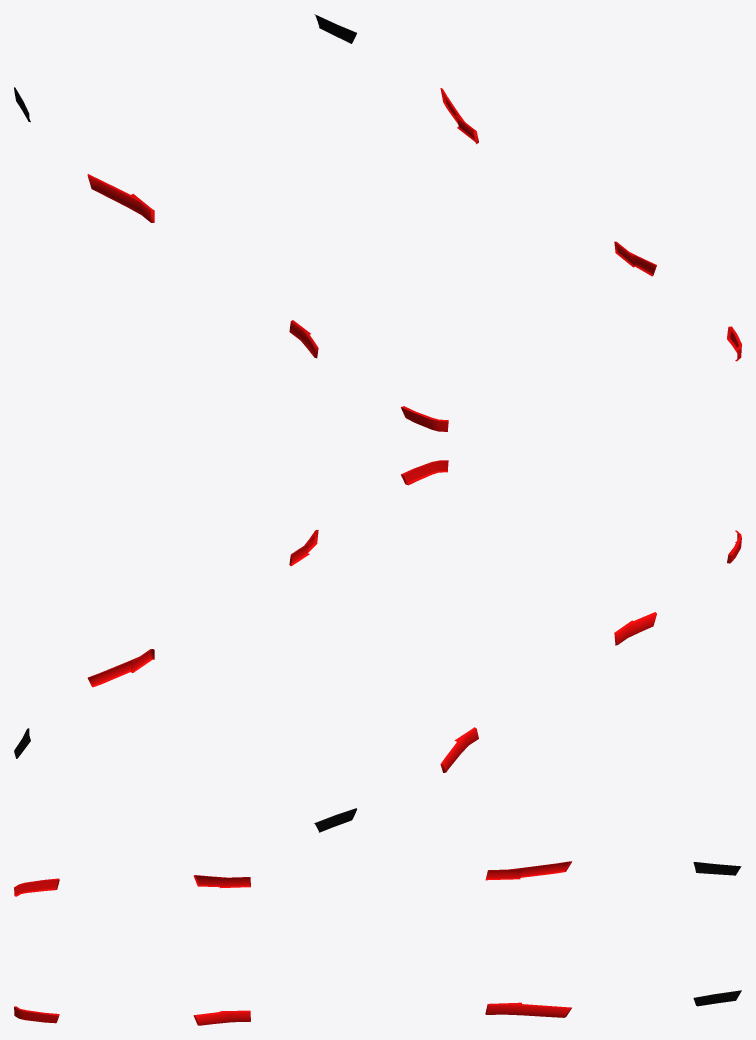
File: BMW_E36_Fenders02_Trim.fbx
3 renders of one model, top to bottom at view 1: azimuth 30°, elevation 25°; view 2: azimuth 150°, elevation 25°; view 3: azimuth 270°, elevation 25°, orthographic. The views are drawn at different scales.
Visible parts, largest first — view 1: BMW_E36_Fenders02_Trim; view 2: BMW_E36_Fenders02_Trim; view 3: BMW_E36_Fenders02_Trim.
Boxes of the visible parts, left/top/right/bottom form: BMW_E36_Fenders02_Trim: left=14, top=14, right=741, bottom=431; BMW_E36_Fenders02_Trim: left=14, top=460, right=741, bottom=832; BMW_E36_Fenders02_Trim: left=14, top=861, right=741, bottom=1025.
Bounding box in the file's own units: 1.84 × 0.1631 × 3.85.
